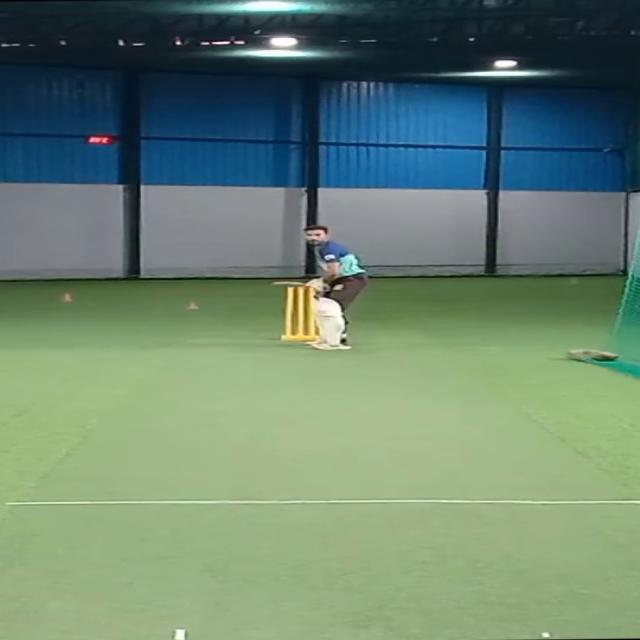stump: (276, 283, 320, 343)
